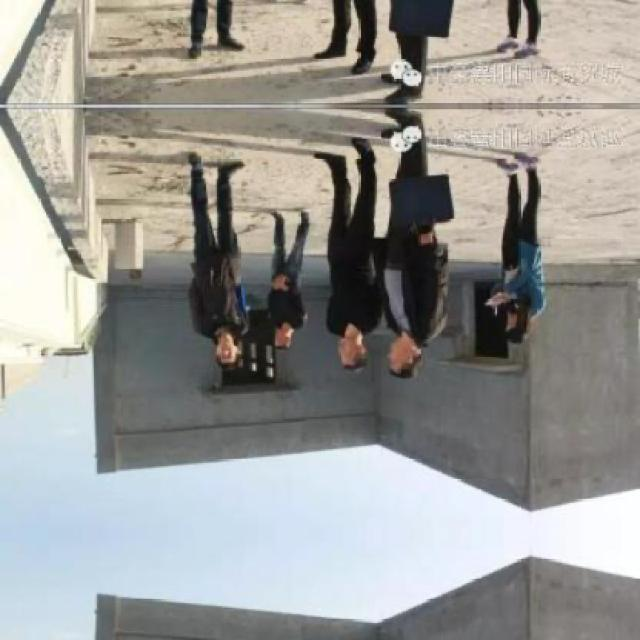sin casco: (326, 321, 376, 363), (387, 337, 426, 388), (508, 302, 542, 337), (264, 322, 295, 358), (210, 331, 235, 372)
